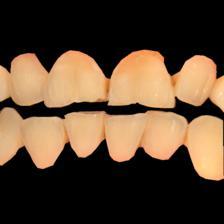cavity: (106, 77, 112, 101), (139, 131, 147, 148), (63, 131, 72, 144), (171, 76, 180, 87), (183, 126, 188, 145), (101, 124, 107, 139)
tooth: (107, 45, 175, 110), (49, 50, 104, 108), (186, 111, 224, 182), (176, 45, 217, 108), (21, 113, 65, 171), (146, 108, 190, 162), (7, 52, 48, 107), (106, 113, 150, 161), (65, 110, 108, 158), (1, 105, 22, 166)
